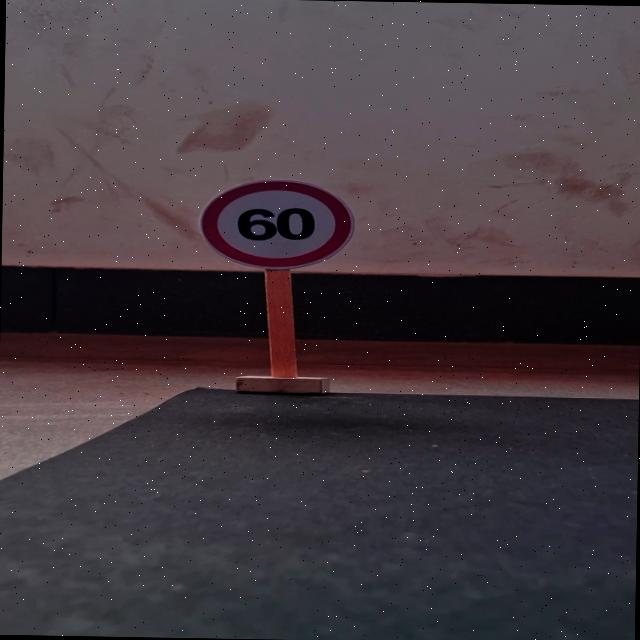Speed60: (200, 174, 346, 274)
